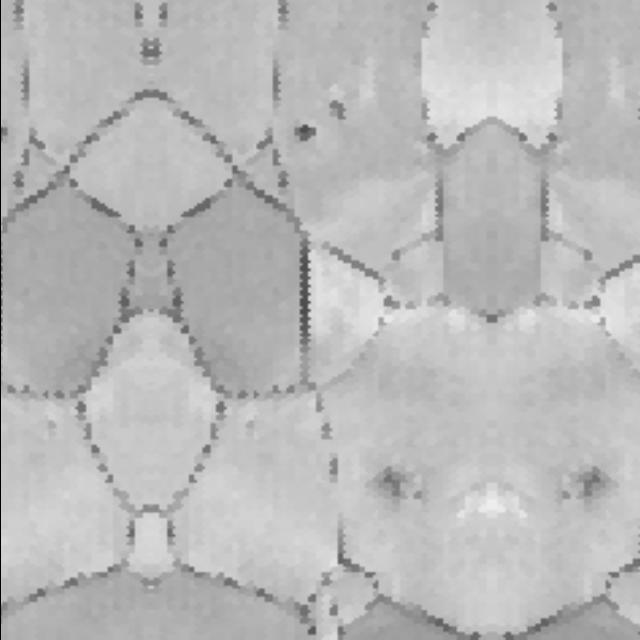good_void: (292, 235, 317, 356), (558, 458, 611, 514), (370, 458, 423, 513), (288, 119, 318, 151), (323, 94, 350, 127), (137, 42, 150, 64), (149, 42, 160, 64), (632, 100, 640, 124)
